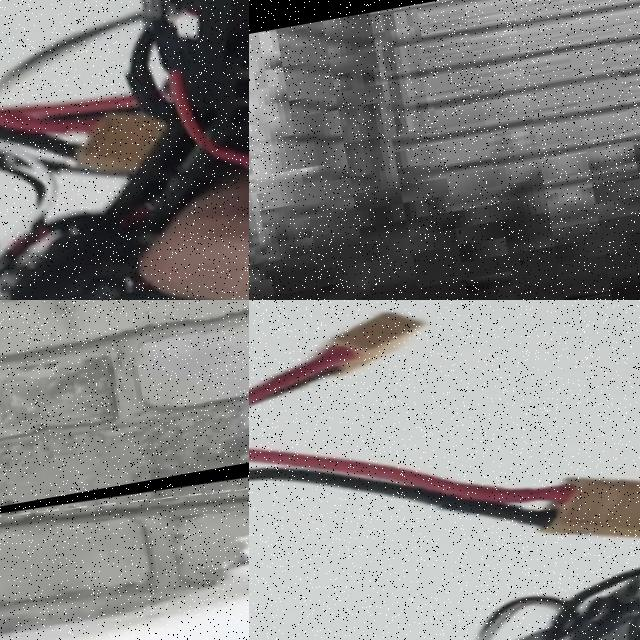drone: (249, 300, 640, 640), (0, 0, 249, 300), (0, 436, 249, 640)
